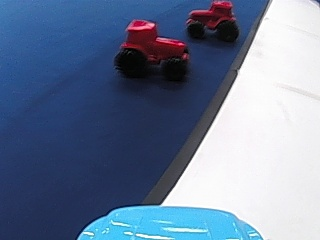Tracktor: (112, 17, 194, 81), (185, 0, 240, 45)
